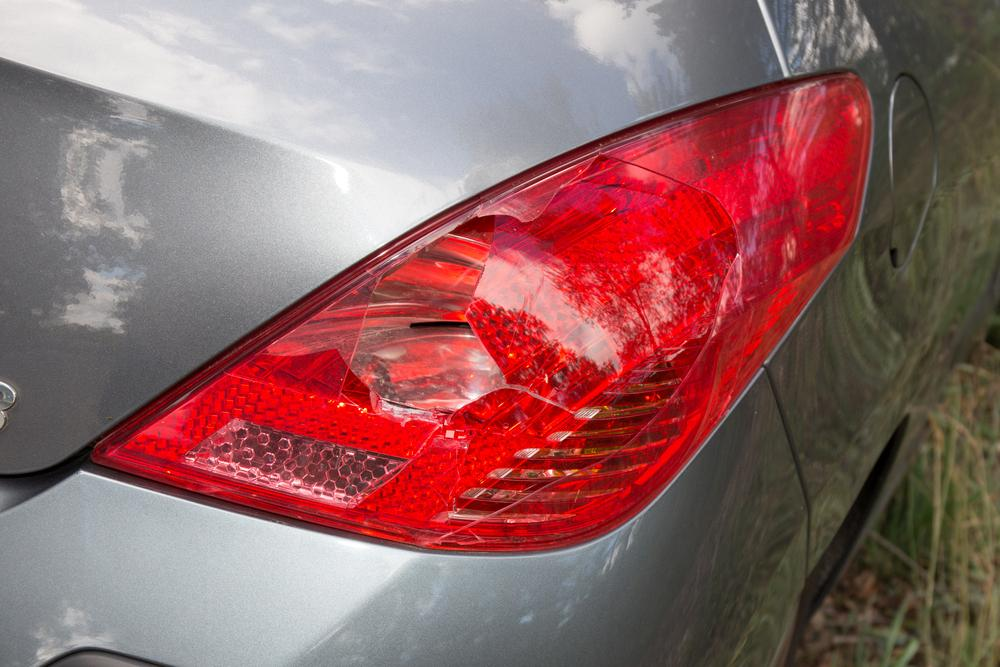lamp broken: (76, 73, 874, 556)
